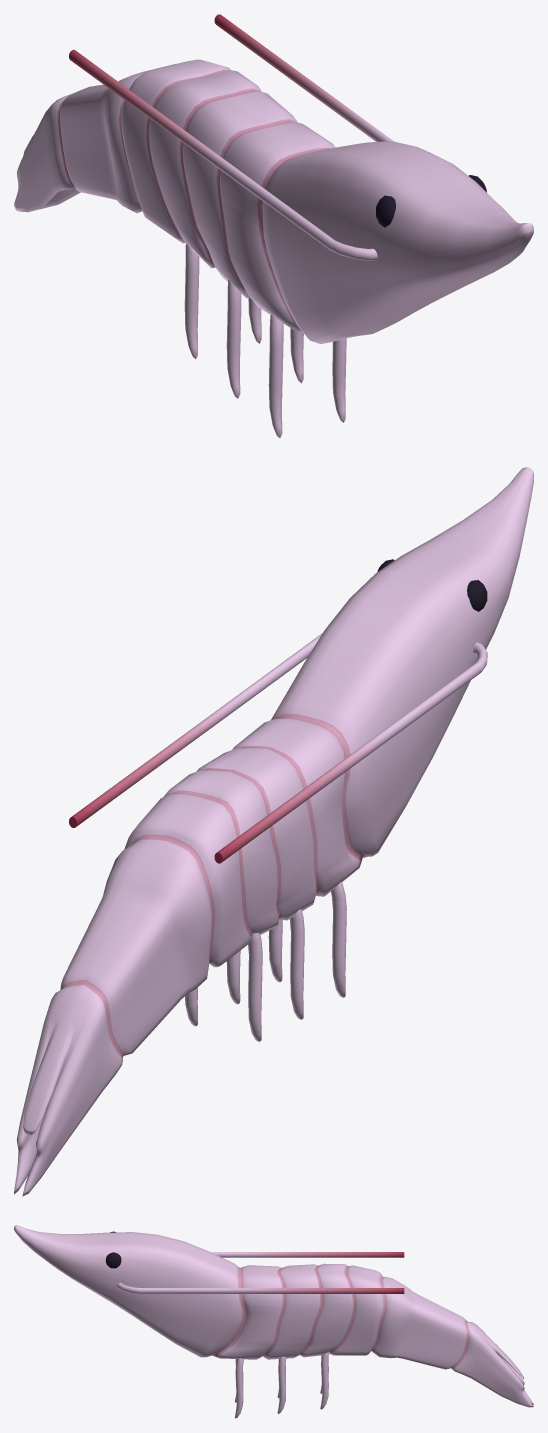
Rendered from scrimpbley_final 1.fbx.
The picture shows the model from 3 angles, top to bottom: view 1: azimuth 30°, elevation 25°; view 2: azimuth 150°, elevation 25°; view 3: azimuth 270°, elevation 25°; orthographic projection. The views are drawn at different scales.
Visible parts, largest first — view 1: scrimp_body, scrimp_whiskers, leggies, eyes; view 2: scrimp_body, scrimp_whiskers, leggies; view 3: scrimp_body, scrimp_whiskers, leggies.
Boxes of the visible parts, x1=… form: scrimp_body: x1=14, y1=59, x2=533, y2=343; scrimp_whiskers: x1=69, y1=14, x2=393, y2=260; leggies: x1=184, y1=243, x2=346, y2=438; eyes: x1=376, y1=175, x2=486, y2=227; scrimp_body: x1=14, y1=467, x2=533, y2=1196; scrimp_whiskers: x1=69, y1=633, x2=487, y2=863; leggies: x1=185, y1=882, x2=346, y2=1042; scrimp_body: x1=14, y1=1225, x2=533, y2=1407; scrimp_whiskers: x1=117, y1=1252, x2=404, y2=1293; leggies: x1=234, y1=1352, x2=328, y2=1418.
Bounding box in the file's own units: 447 × 77.67 × 176.
